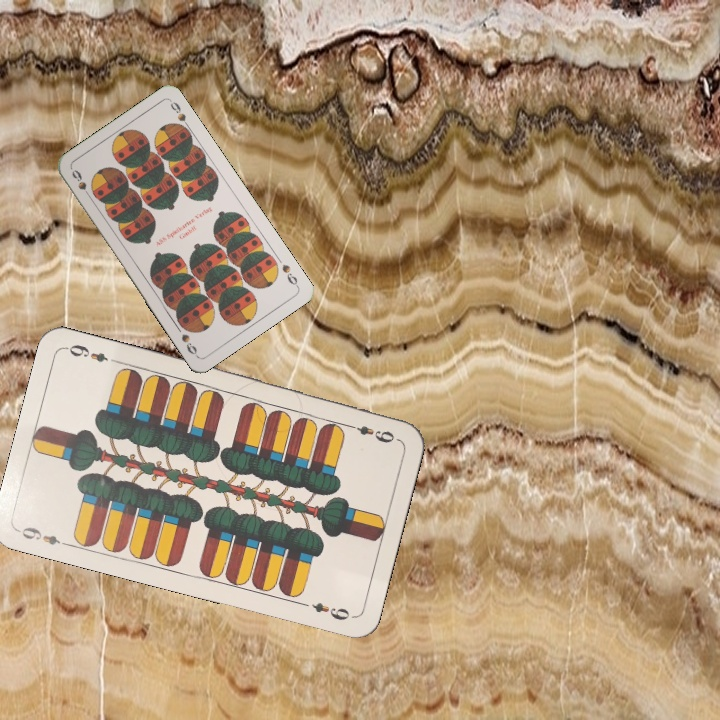E9: (342, 420, 400, 446), (15, 523, 73, 549)
S9: (68, 166, 95, 202), (278, 260, 301, 290)
